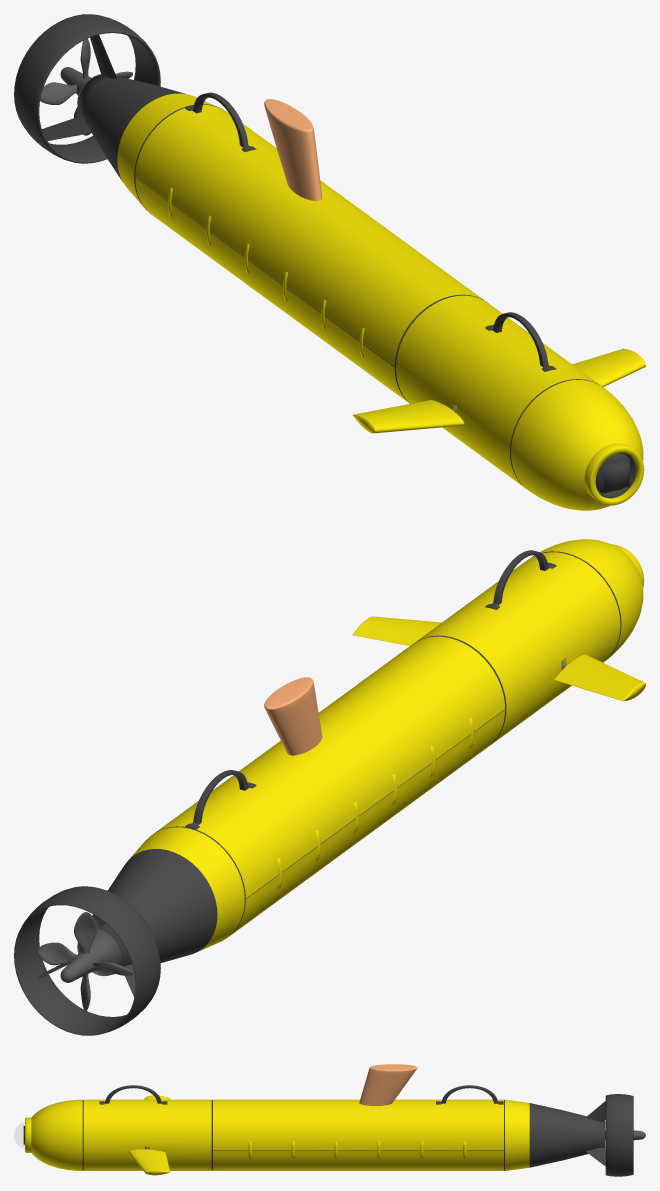
File: UnderwaterRobot.fbx
3 renders of one model, top to bottom at view 1: azimuth 30°, elevation 25°; view 2: azimuth 150°, elevation 25°; view 3: azimuth 270°, elevation 25°, orthographic. The views are drawn at different scales.
Parts seen in each view (by area): view 1: body, bodyB, fin, antenna, black, screw; view 2: body, bodyB, fin, screw, antenna, black; view 3: body, bodyB, antenna, fin, black.
Part boxes in pixels (bbox=[...]): body: bbox=[117, 93, 644, 510]; bodyB: bbox=[14, 14, 598, 488]; fin: bbox=[352, 348, 645, 433]; antenna: bbox=[264, 99, 322, 200]; black: bbox=[185, 92, 636, 498]; screw: bbox=[40, 38, 132, 135]; body: bbox=[129, 539, 644, 951]; bodyB: bbox=[14, 551, 621, 1035]; fin: bbox=[352, 616, 645, 701]; screw: bbox=[37, 912, 132, 1011]; antenna: bbox=[264, 677, 322, 755]; black: bbox=[185, 550, 556, 829]; body: bbox=[25, 1099, 529, 1170]; bodyB: bbox=[82, 1094, 633, 1176]; antenna: bbox=[359, 1064, 417, 1105]; fin: bbox=[128, 1095, 170, 1175]; black: bbox=[23, 1085, 503, 1144].
Bounding box in the file's own units: 245 × 163 × 883.
